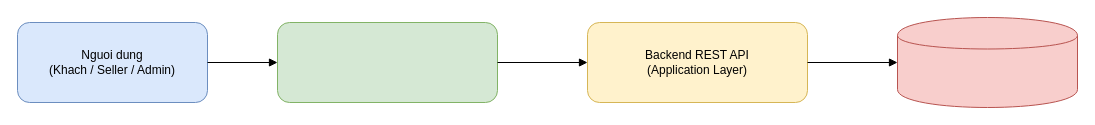
This 1095x125 diagram has some shape labels left out. The shapes that lost their labels are listed below. From the top down, each one's box as (x1, y1, x2, y2) in pixels, then its label:
(276, 22, 498, 102): Frontend Web App (Presentation Layer)
(896, 16, 1078, 108): Relational Database (Data Layer)
